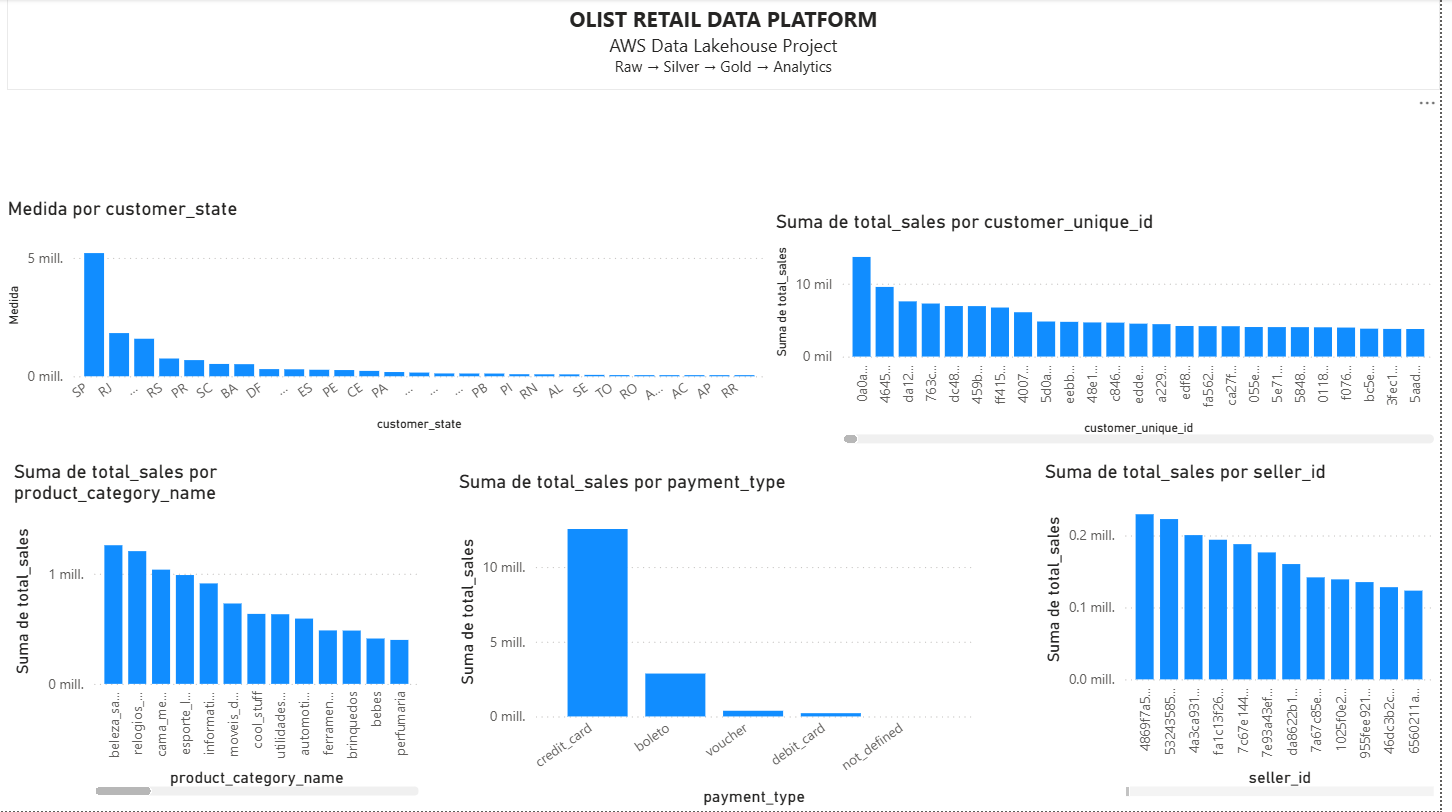

The dashboard page shown, as its layout file describes it:
{"tool":"powerbi","page":{"name":"Página 1","canvas":[1280,720],"ordinal":0},"visuals":[{"type":"textbox","box":[9.5,0,1270.5,80.9],"z":0},{"type":"clusteredColumnChart","fields":{"Category":["sales_by_state.customer_state"],"Y":["sales_by_state.Medida"]},"box":[5.1,175.9,681.2,212],"z":1000},{"type":"columnChart","fields":{"Category":["sales_by_category.product_category_name"],"Y":["Sum(sales_by_category.total_sales)"]},"box":[10.3,408.5,369.4,302.5],"z":1001},{"type":"columnChart","fields":{"Category":["sales_by_payment_type.payment_type"],"Y":["Sum(sales_by_payment_type.total_sales)"]},"box":[405.4,417.7,465.1,302.5],"z":1002},{"type":"columnChart","fields":{"Y":["Sum(top_sellers.total_sales)"],"Category":["top_sellers.seller_id"]},"box":[925,408.5,355,302.5],"z":1003},{"type":"columnChart","fields":{"Category":["top_customers.customer_unique_id"],"Y":["Sum(top_customers.total_sales)"]},"box":[686.3,187.3,593.7,212],"z":1004}]}

Visuals, with their boxes in screenshot pixels (x1, y1, x2, y2), scaled from the page's 1280x720 canvas onto the 1452x812 screenshot:
textbox: detection(11, 0, 1451, 91)
clusteredColumnChart - sales_by_state.customer_state x sales_by_state.Medida: detection(6, 198, 779, 437)
columnChart - sales_by_category.product_category_name x Sum(sales_by_category.total_sales): detection(12, 461, 431, 802)
columnChart - sales_by_payment_type.payment_type x Sum(sales_by_payment_type.total_sales): detection(460, 471, 987, 811)
columnChart - Sum(top_sellers.total_sales) x top_sellers.seller_id: detection(1049, 461, 1451, 802)
columnChart - top_customers.customer_unique_id x Sum(top_customers.total_sales): detection(779, 211, 1451, 450)
